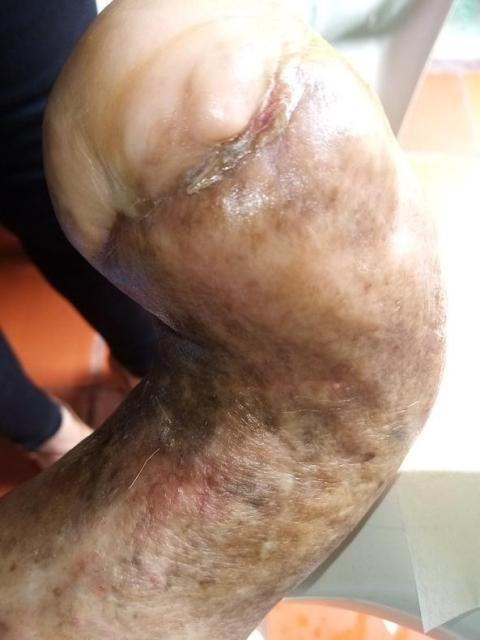wound: (127, 49, 302, 234)
